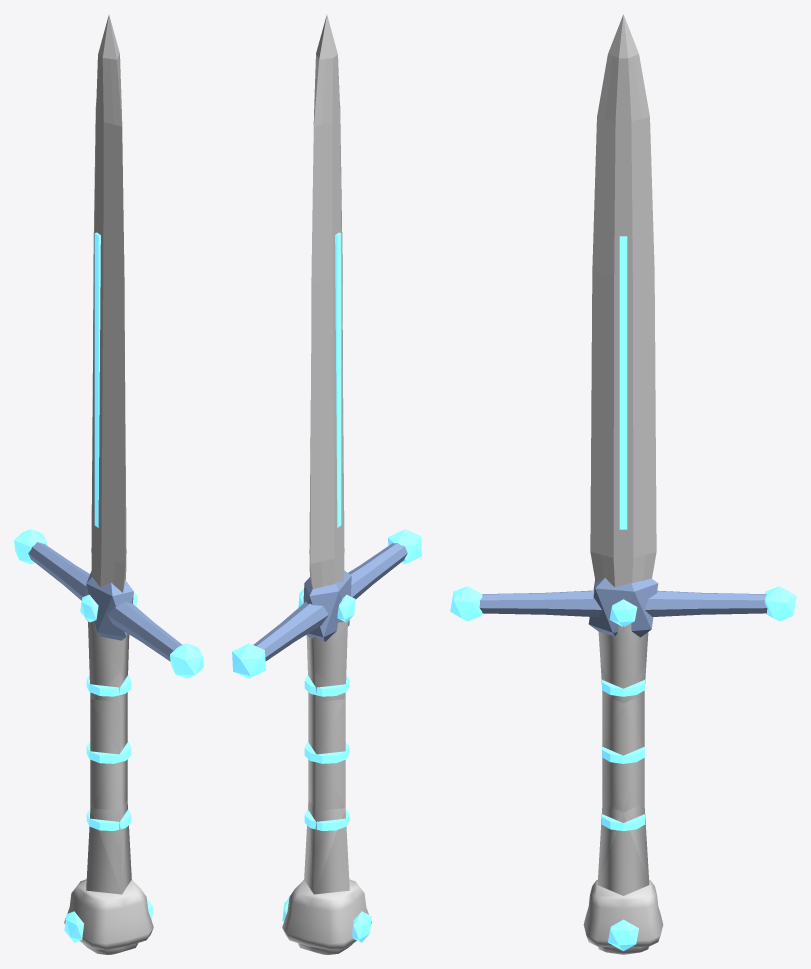
Rendered from sword_rare.glb.
3 views of the same model, side by side, from view 1: azimuth 30°, elevation 25°; view 2: azimuth 150°, elevation 25°; view 3: azimuth 270°, elevation 25° (orthographic).
Visible parts, largest first — view 1: sword_rare_export; view 2: sword_rare_export; view 3: sword_rare_export.
Part boxes in pixels (x1,y1,x2,y2): sword_rare_export: (14,15,203,954); sword_rare_export: (232,15,421,954); sword_rare_export: (450,14,796,954).
Bounding box in the file's own units: 24.02 × 266 × 88.94.
